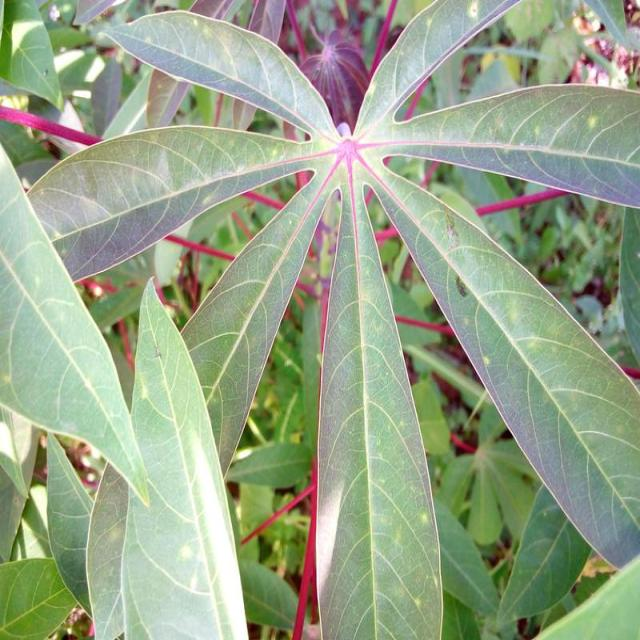cassava leaf: (11, 0, 639, 637), (314, 158, 444, 638), (85, 274, 249, 638)
